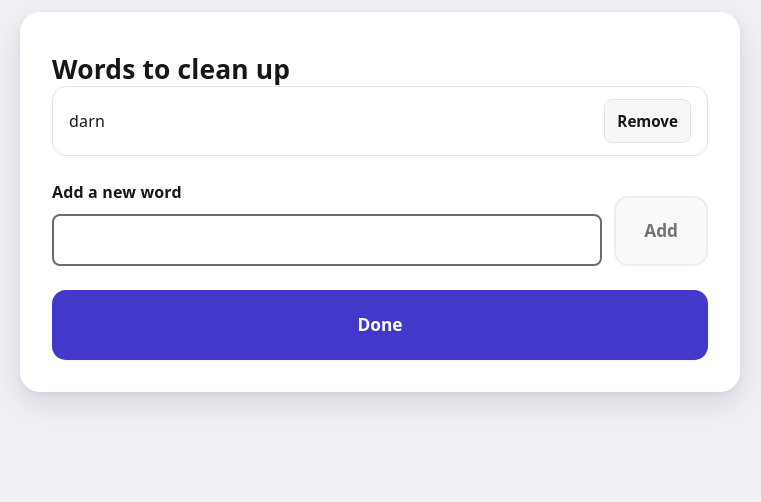
Scenario: WordsScreen › Add is disabled for a blank word, and sends the appended array
The width and height of the screenshot is (761, 502).
Expected: the button "Add" is disabled, [614, 196, 708, 266]
In the field labelled "Add a new word": {"x": 327, "y": 240} [52, 214, 602, 266], type "shoot"
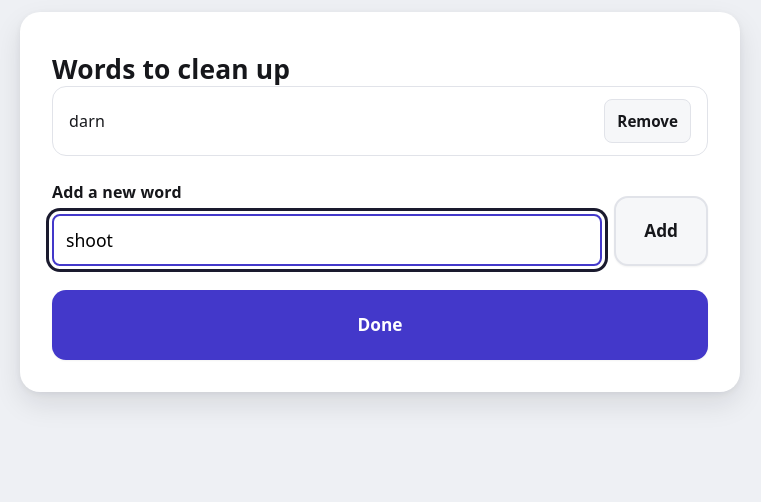
Click the button "Add": {"x": 661, "y": 231} [614, 196, 708, 266]
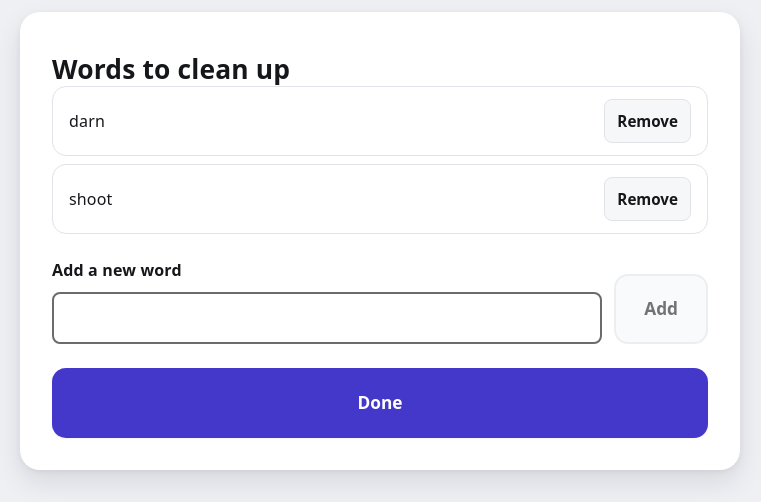
Expected: the text "shoot" is shown, [69, 186, 112, 212]
